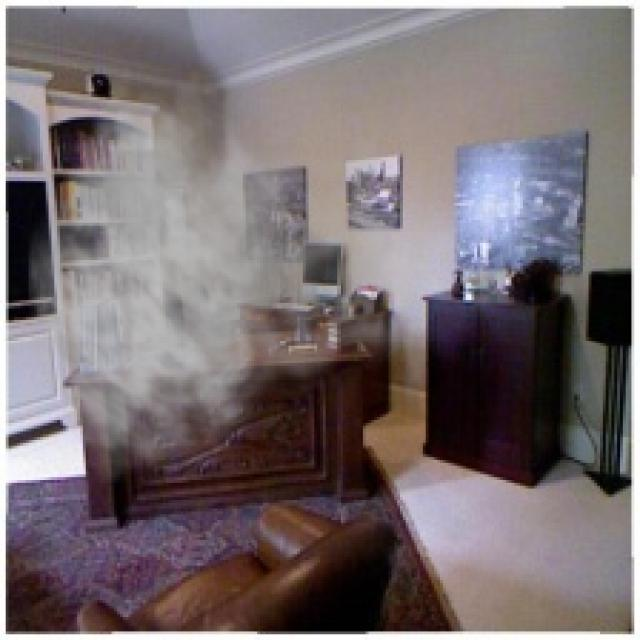smoke: (26, 60, 428, 483)
